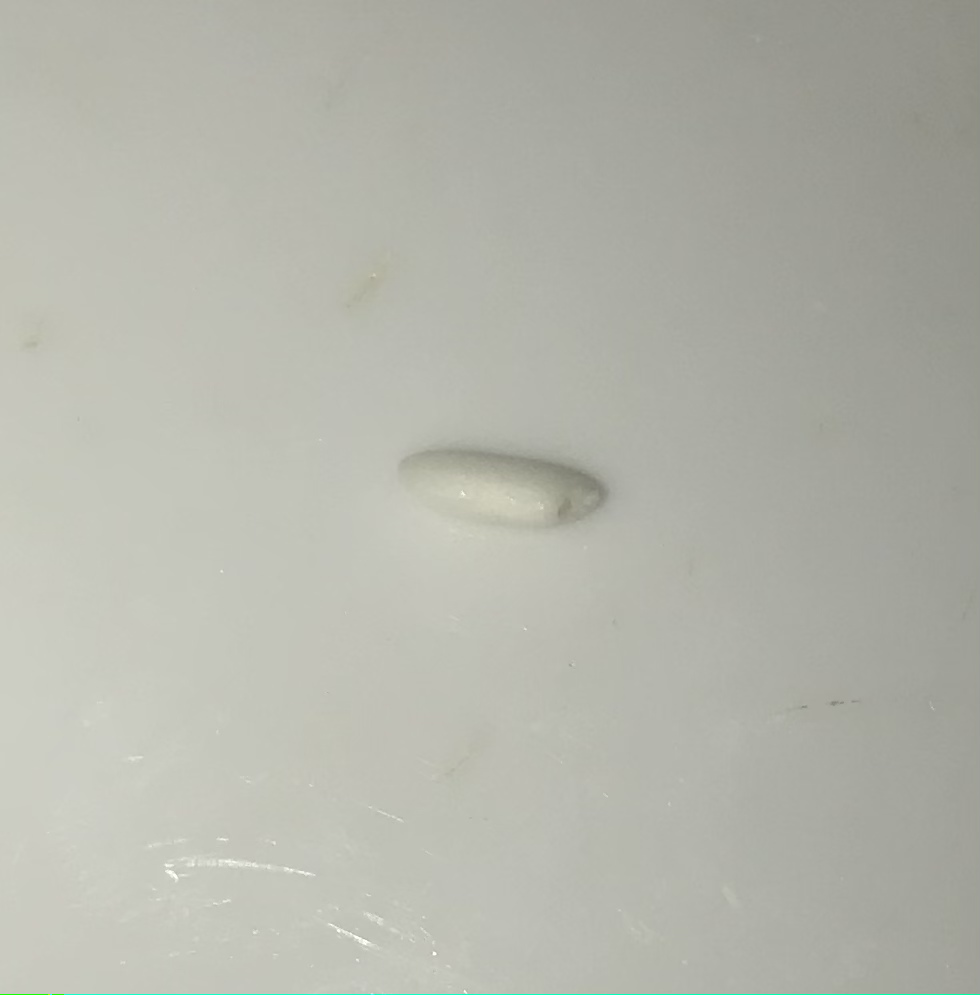Gao Nep Sap: (380, 416, 616, 553)
